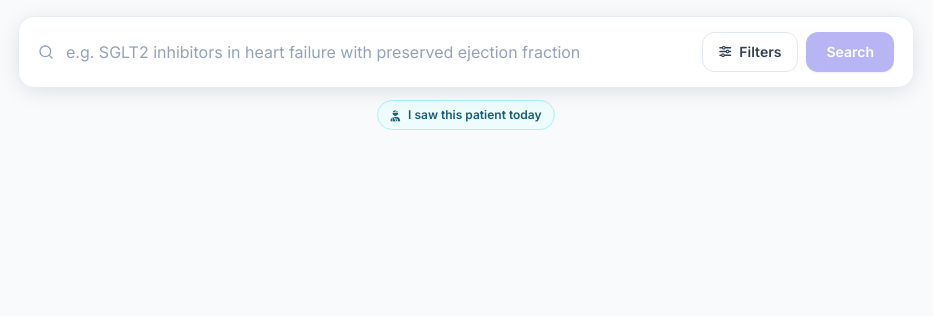
Test case: SearchHero once results exist › collapses the patient-presentation box instead of deleting the feature
What coordinates should you click on to do the following:
click the button "I saw this patient today"
I would click on:
 (466, 115)
Its box is [377, 100, 555, 130].
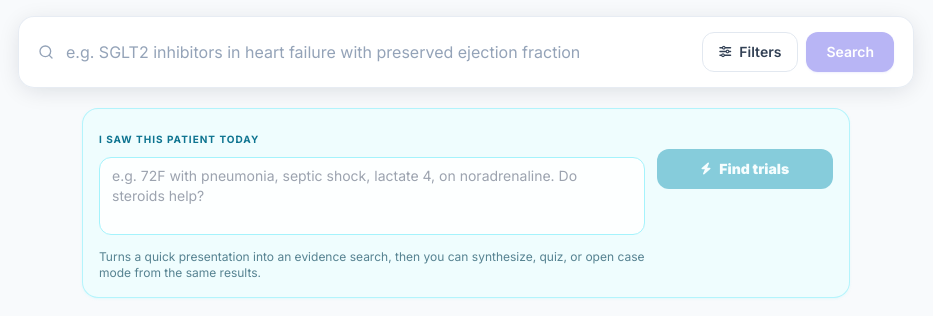
Expected: the text box labelled "I saw this patient today" is shown, [99, 157, 645, 235]
